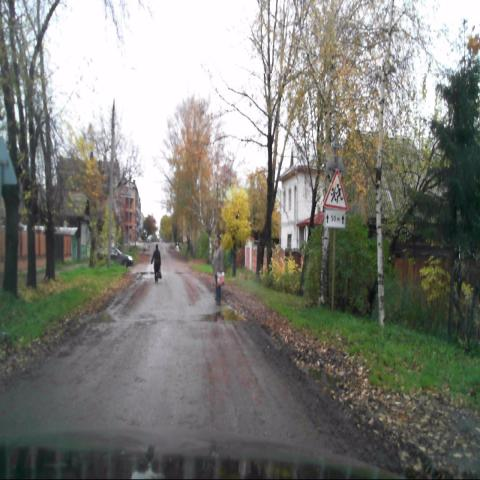8_2_1: (325, 211, 346, 228)
